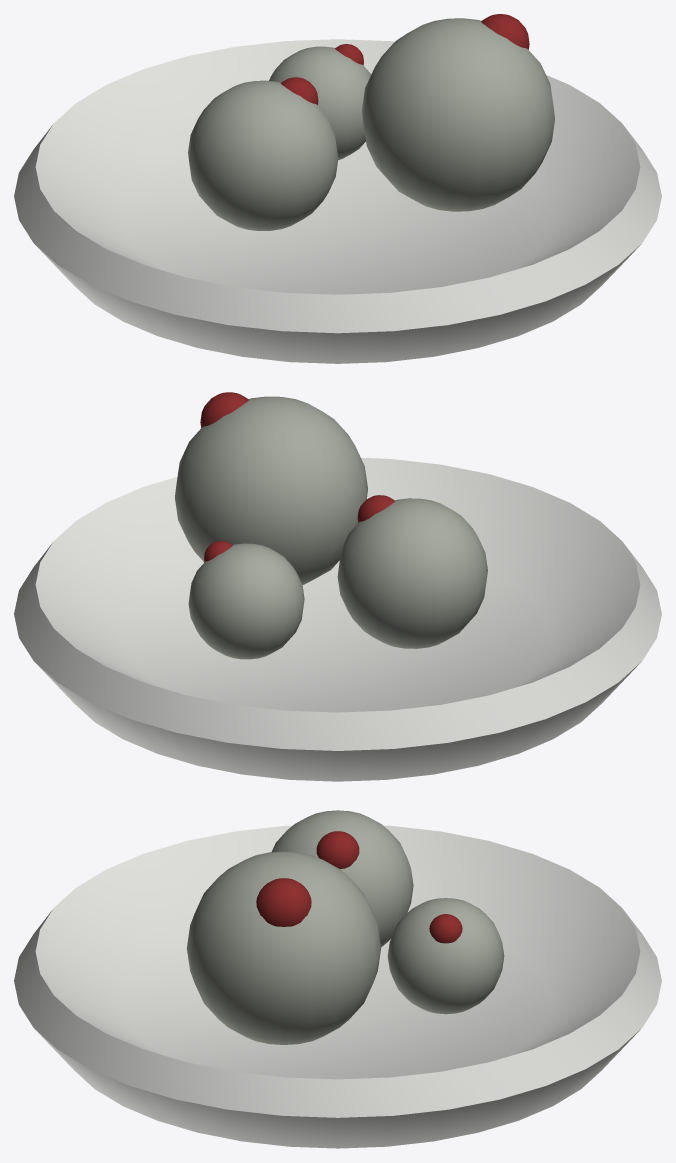
File: paranormal-investigation-house-rotting-food-plate-1d0423e9__26875.glb
3 views of the same model, one above another, from view 1: azimuth 30°, elevation 25°; view 2: azimuth 150°, elevation 25°; view 3: azimuth 270°, elevation 25° (orthographic).
Parts seen in each view (by area): view 1: rotting-food-plate; view 2: rotting-food-plate; view 3: rotting-food-plate.
Boxes of the visible parts, x1,y1,x2,y2 form: rotting-food-plate: [14, 14, 661, 363]; rotting-food-plate: [14, 392, 661, 781]; rotting-food-plate: [14, 810, 661, 1148].
Size of the model in its own units: 0.3 by 0.11 by 0.3.
